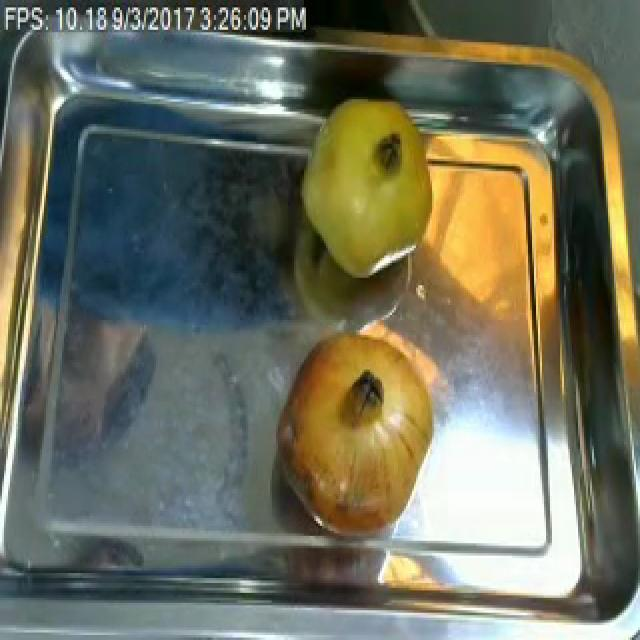fruit: (272, 322, 444, 546), (292, 89, 442, 288)
